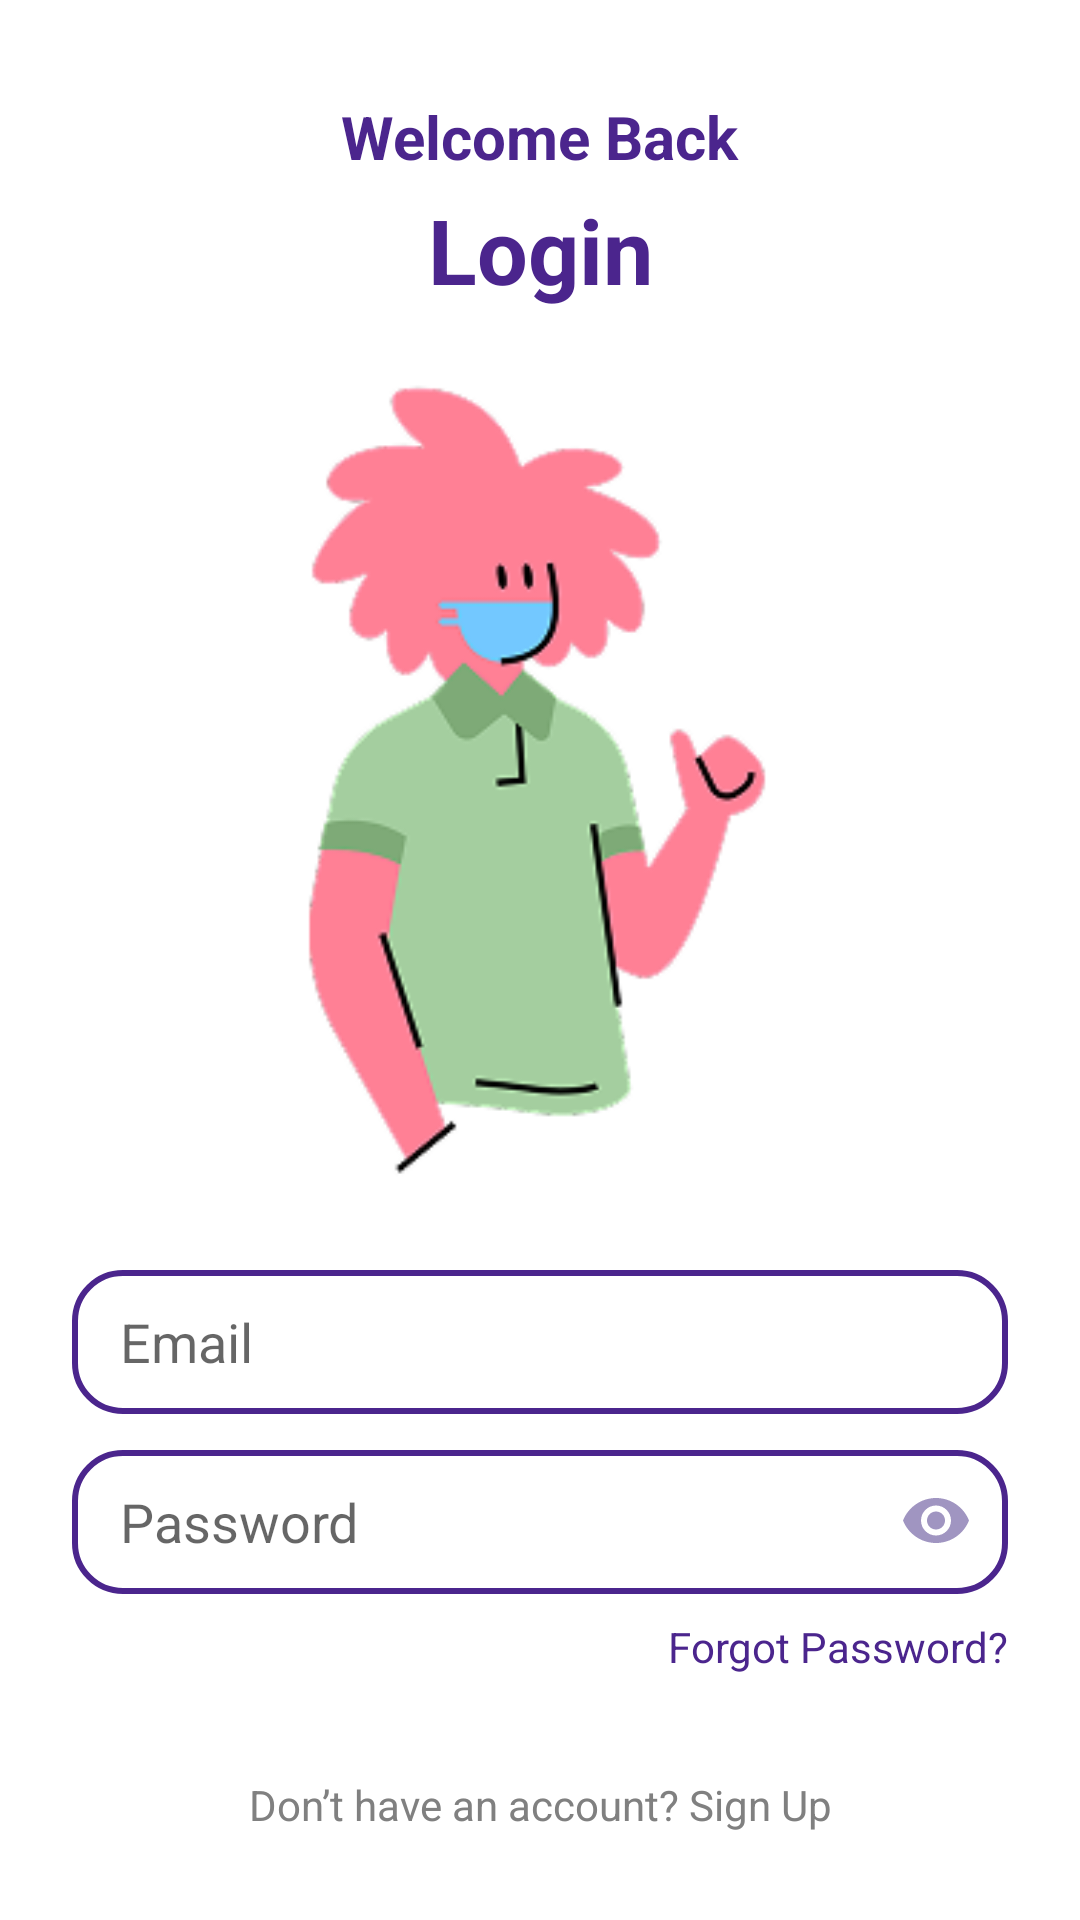

Named icons in this screenshot (1080px x 1920px) and their centers, (x,y):
eye: (936,1520)
